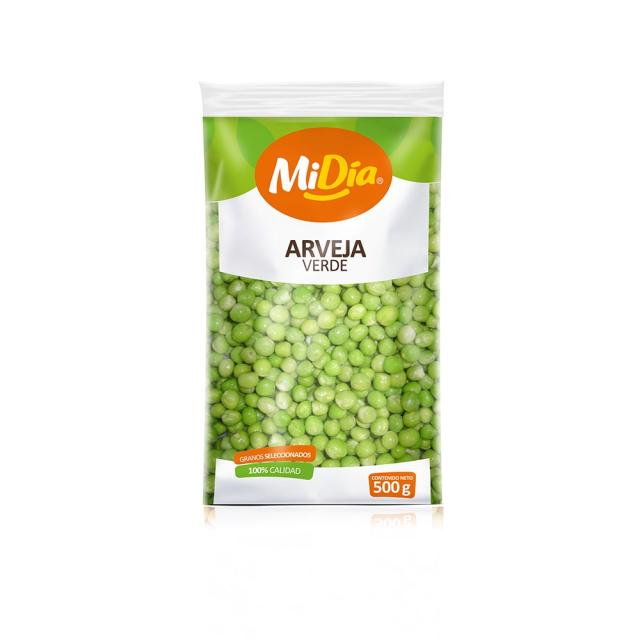arvejas: (214, 280, 433, 445)
